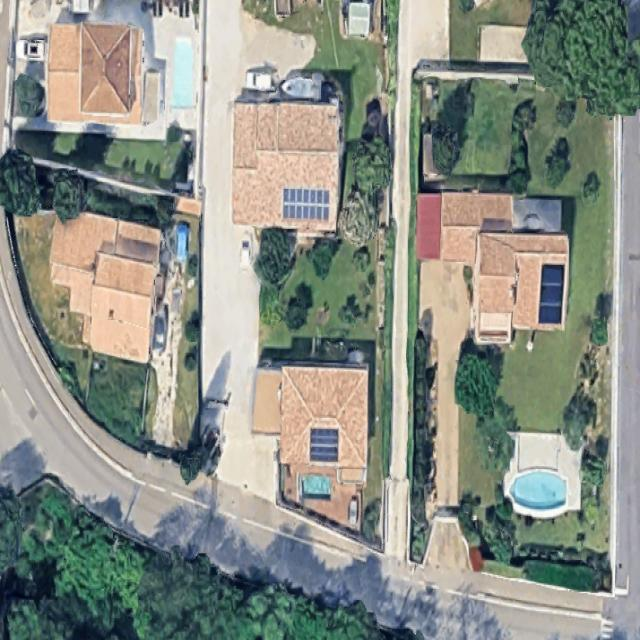maison: (38, 209, 166, 363), (230, 98, 342, 235), (45, 20, 161, 127), (472, 231, 569, 345), (281, 368, 366, 465), (438, 193, 511, 265)
